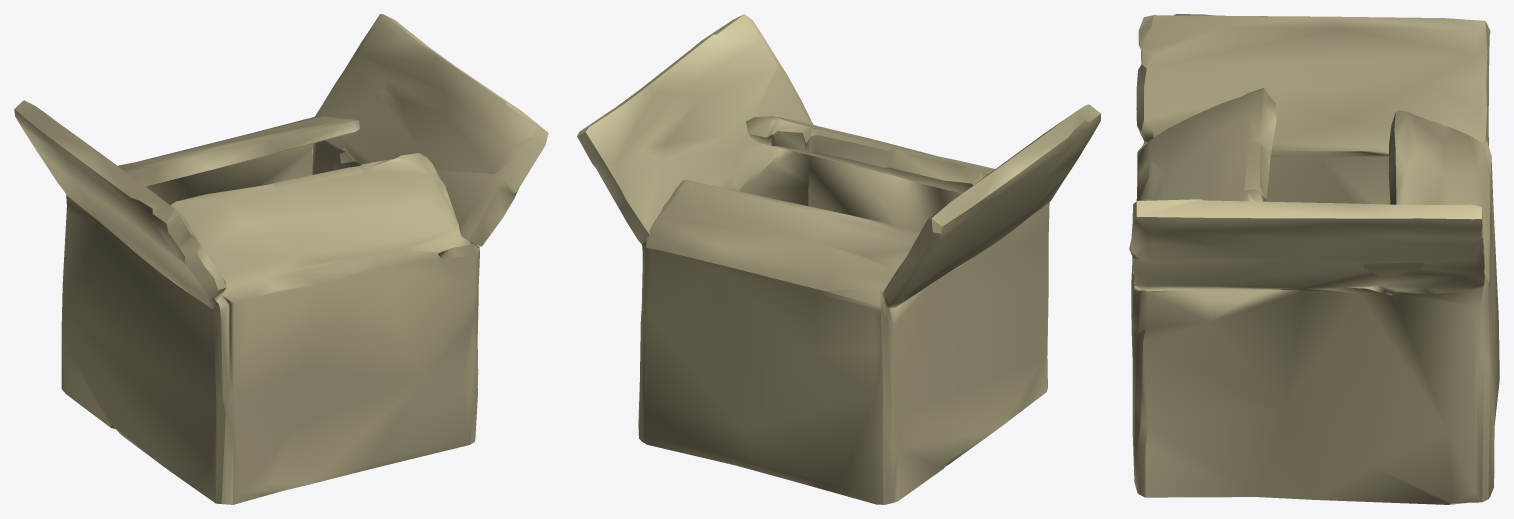
3 views of the same model, side by side, from view 1: azimuth 30°, elevation 25°; view 2: azimuth 150°, elevation 25°; view 3: azimuth 270°, elevation 25° (orthographic). The views are drawn at different scales.
Visible parts, largest first — view 1: Box02; view 2: Box02; view 3: Box02.
Part boxes in pixels (bbox=[...]): Box02: bbox=[14, 14, 548, 504]; Box02: bbox=[577, 14, 1100, 504]; Box02: bbox=[1129, 14, 1499, 504].
Bounding box in the file's own units: 65.15 × 50.76 × 50.48.
